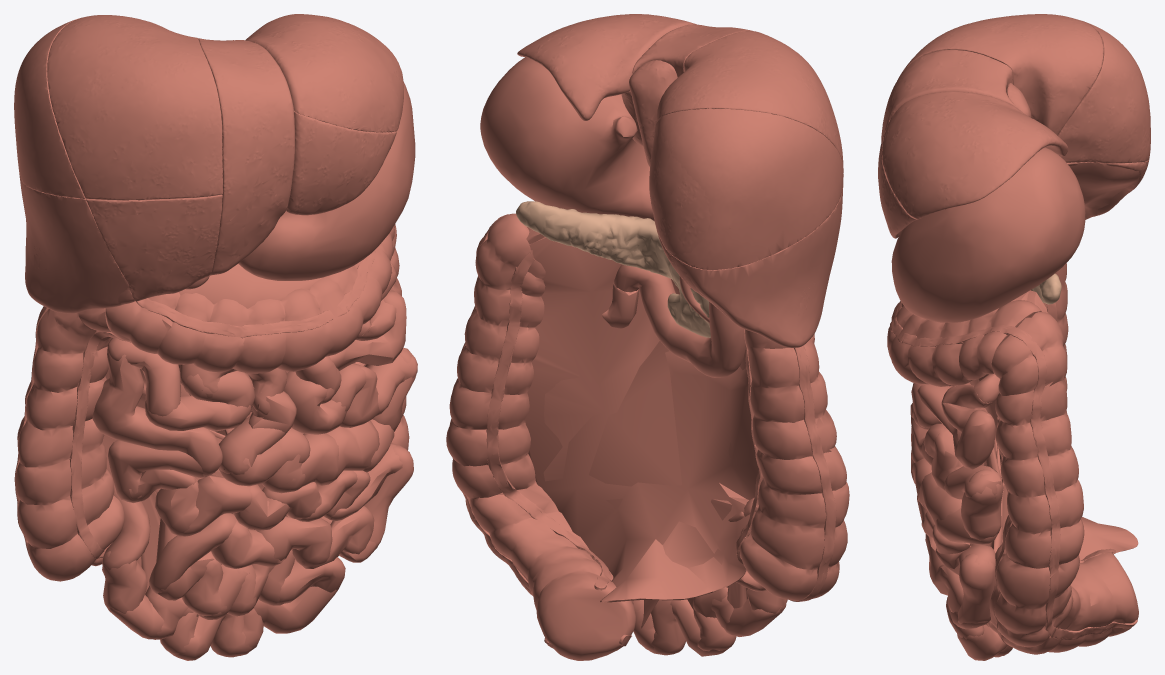
The model's file is digestive.abdomen.glb.
The picture shows the model from 3 angles, left to right: view 1: azimuth 30°, elevation 25°; view 2: azimuth 150°, elevation 25°; view 3: azimuth 270°, elevation 25°; orthographic projection. The views are drawn at different scales.
Visible parts, largest first — view 1: hepatovenous_segment_viii, distal_part_of_jejunum, ascending_colon, transverse_colon, proximal_part_of_ileum, hepatovenous_segment_iv, middle_part_of_ileum, hepatovenous_segment_ii, distal_part_of_ileum, stomach, hepatovenous_segment_v, hepatovenous_segment_vii (+10 smaller); view 2: transverse_mesocolon, descending_colon, hepatovenous_segment_ix, ascending_colon, stomach, hepatovenous_segment_viii, hepatovenous_segment_vii, hepatovenous_segment_ii, distal_part_of_ileum, duodenum, taenia_mesocolica, pancreas (+6 smaller); view 3: descending_colon, stomach, hepatovenous_segment_viii, hepatovenous_segment_ii, transverse_colon, middle_part_of_jejunum, proximal_part_of_jejunum, taenia_omentalis, hepatovenous_segment_iv, proximal_part_of_ileum, hepatovenous_segment_vii, transverse_mesocolon (+11 smaller).
Part boxes in pixels (x1=…): hepatovenous_segment_viii: x1=47, y1=15, x2=222, y2=200; distal_part_of_jejunum: x1=92, y1=338, x2=338, y2=493; ascending_colon: x1=15, y1=308, x2=124, y2=581; transverse_colon: x1=105, y1=226, x2=394, y2=373; proximal_part_of_ileum: x1=108, y1=440, x2=413, y2=547; hepatovenous_segment_iv: x1=198, y1=38, x2=294, y2=275; middle_part_of_ileum: x1=149, y1=506, x2=377, y2=619; hepatovenous_segment_ii: x1=245, y1=14, x2=403, y2=132; distal_part_of_ileum: x1=102, y1=549, x2=345, y2=660; stomach: x1=238, y1=82, x2=415, y2=280; hepatovenous_segment_v: x1=86, y1=194, x2=222, y2=301; hepatovenous_segment_vii: x1=19, y1=174, x2=129, y2=313; transverse_mesocolon: x1=525, y1=229, x2=758, y2=602; descending_colon: x1=446, y1=214, x2=635, y2=660; hepatovenous_segment_ix: x1=657, y1=108, x2=843, y2=270; ascending_colon: x1=740, y1=329, x2=849, y2=600; stomach: x1=480, y1=57, x2=654, y2=220; hepatovenous_segment_viii: x1=649, y1=31, x2=843, y2=255; hepatovenous_segment_vii: x1=663, y1=185, x2=843, y2=347; hepatovenous_segment_ii: x1=517, y1=14, x2=696, y2=120; distal_part_of_ileum: x1=633, y1=587, x2=787, y2=656; duodenum: x1=613, y1=264, x2=745, y2=377; taenia_mesocolica: x1=486, y1=250, x2=762, y2=590; pancreas: x1=516, y1=201, x2=710, y2=337; descending_colon: x1=988, y1=312, x2=1138, y2=654; stomach: x1=891, y1=147, x2=1085, y2=322; hepatovenous_segment_viii: x1=897, y1=14, x2=1150, y2=163; hepatovenous_segment_ii: x1=882, y1=91, x2=1068, y2=219; transverse_colon: x1=887, y1=300, x2=1041, y2=386; middle_part_of_jejunum: x1=919, y1=427, x2=1003, y2=544; proximal_part_of_jejunum: x1=910, y1=374, x2=1000, y2=469; taenia_omentalis: x1=890, y1=301, x2=1137, y2=639; hepatovenous_segment_iv: x1=881, y1=50, x2=1016, y2=142; proximal_part_of_ileum: x1=917, y1=495, x2=995, y2=628; hepatovenous_segment_vii: x1=1067, y1=159, x2=1149, y2=217; transverse_mesocolon: x1=985, y1=290, x2=1138, y2=560.
Size of the model in its own units: 0.2443 by 0.3778 by 0.1591.
